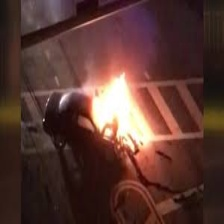fire: (86, 69, 158, 155)
